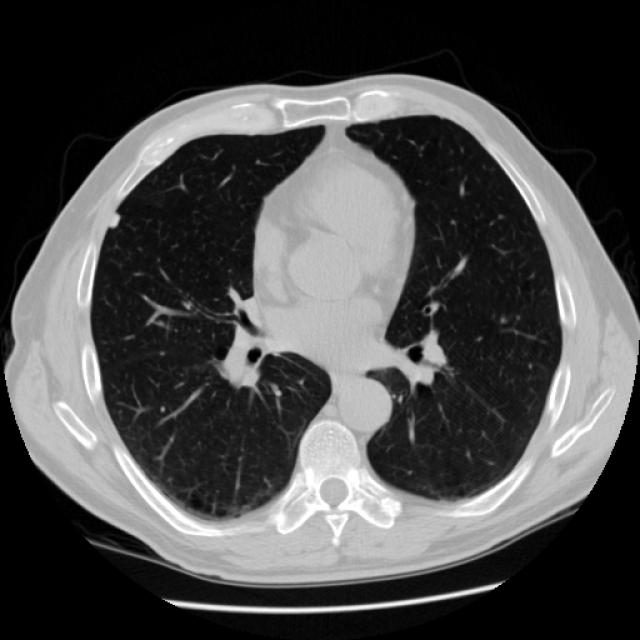nodule: (98, 204, 130, 236)
